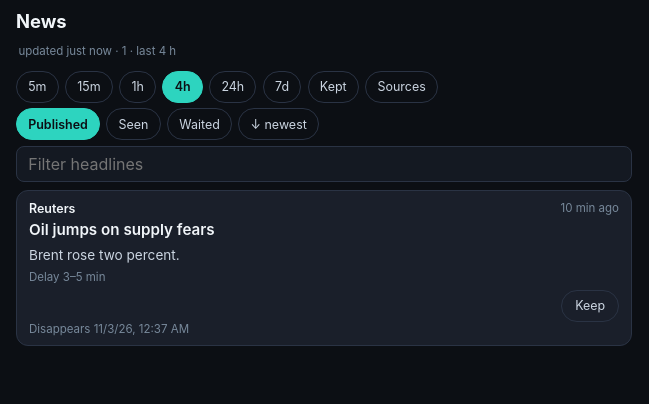
Test case: NewsScreen › expands the whole text in place and offers the original only then
Check: the link "Open original" is not shown
Click the button "Oil jumps on supply fears": {"x": 52, "y": 208} [29,201,619,284]
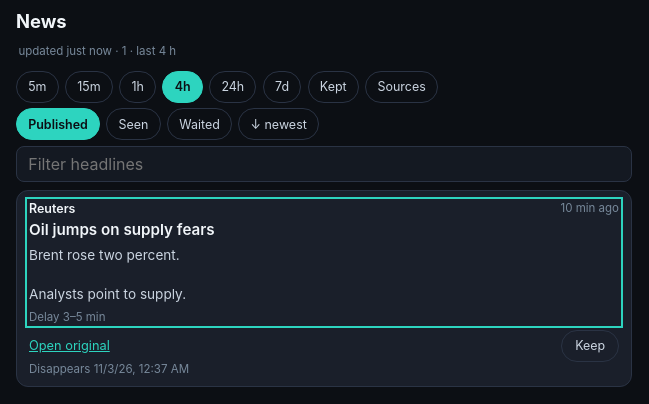
Check: the button "Oil jumps on supply fears" is expanded, box [29,201,619,324]
Check: the text "Brent rose two percent. Analysts point to supply." is shown, box [29,247,186,302]
